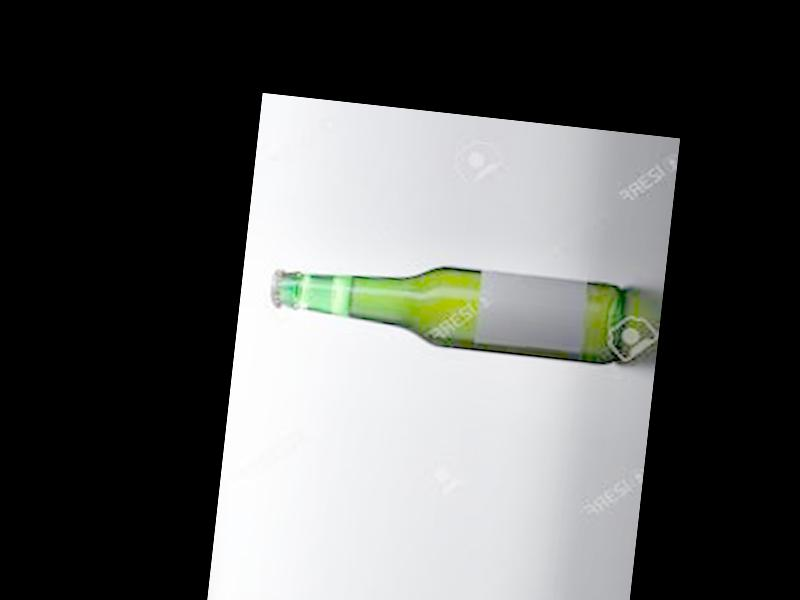Beer: (266, 246, 625, 366)
